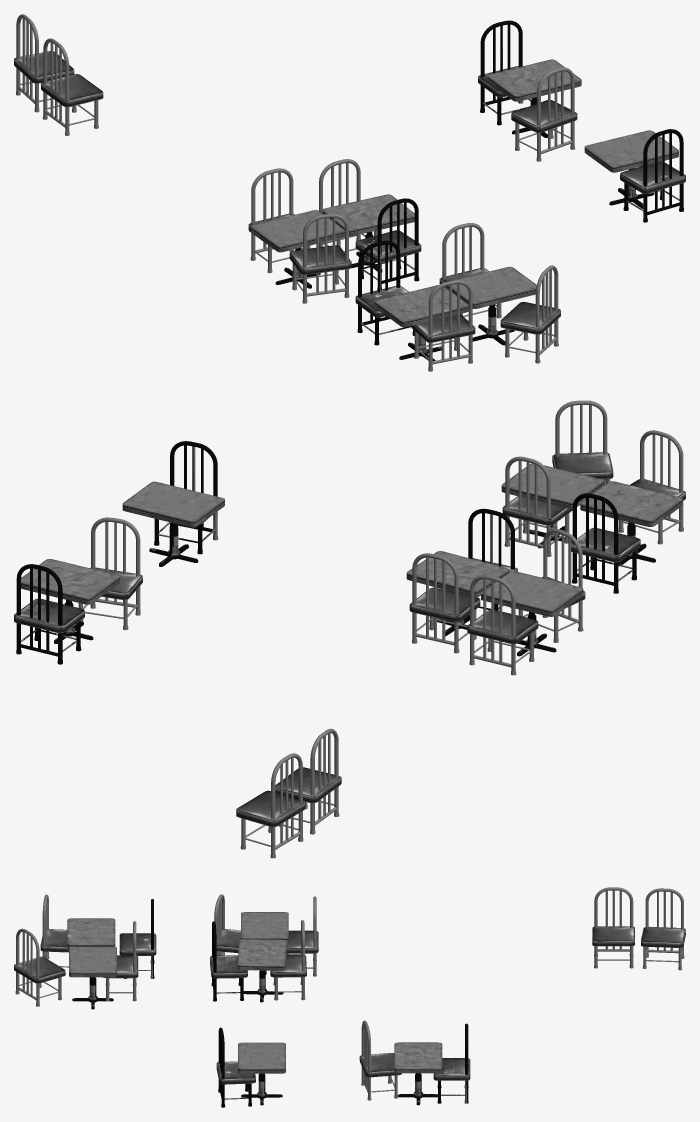
Rendered from ruby_palace_chairs.fbx.
The picture shows the model from 3 angles, top to bottom: view 1: azimuth 30°, elevation 25°; view 2: azimuth 150°, elevation 25°; view 3: azimuth 270°, elevation 25°; orthographic projection. The views are drawn at different scales.
Visible parts, largest first — view 1: Box006, Box015, Box016, Box009, Box012, Box013, Plane007, Plane009, Plane006, Plane004, Box007, Plane008 (+7 smaller); view 2: Plane009, Box004, Box014, Box010, Box008, Box005, Plane004, Box011, Plane006, Plane008, Box009, Plane007 (+7 smaller); view 3: Box009, Box012, Box010, Plane008, Plane007, Plane009, Plane005, Box015, Plane006, Plane004, Box016, Box007 (+7 smaller).
Part boxes in pixels (x1,y1,x2,y2): Box006: [289, 213, 351, 303]; Box015: [511, 67, 577, 161]; Box016: [620, 129, 685, 222]; Box009: [41, 38, 103, 135]; Box012: [500, 265, 560, 363]; Box013: [411, 280, 475, 371]; Plane007: [445, 266, 536, 345]; Plane009: [584, 130, 678, 208]; Plane006: [374, 285, 468, 360]; Plane004: [251, 210, 344, 288]; Box007: [355, 198, 421, 290]; Plane008: [487, 59, 581, 137]; Plane009: [122, 481, 224, 566]; Box004: [467, 575, 538, 675]; Box014: [14, 564, 84, 664]; Box010: [236, 753, 305, 858]; Box008: [571, 493, 640, 593]; Box005: [409, 553, 480, 653]; Plane004: [481, 571, 583, 656]; Box011: [502, 456, 572, 556]; Plane006: [580, 481, 682, 566]; Plane008: [21, 559, 119, 643]; Box009: [275, 728, 341, 834]; Plane007: [501, 463, 603, 548]; Box009: [592, 887, 634, 968]; Box012: [14, 928, 65, 1006]; Box010: [641, 888, 685, 970]; Plane008: [394, 1042, 442, 1105]; Plane007: [69, 946, 116, 1009]; Plane009: [238, 1042, 285, 1105]; Plane005: [237, 939, 287, 1002]; Box015: [359, 1020, 401, 1100]; Plane006: [67, 918, 115, 977]; Plane004: [241, 912, 288, 974]; Box016: [216, 1027, 255, 1107]; Box007: [210, 921, 247, 1001].
Size of the model in its own units: 707 by 158 by 1278.
